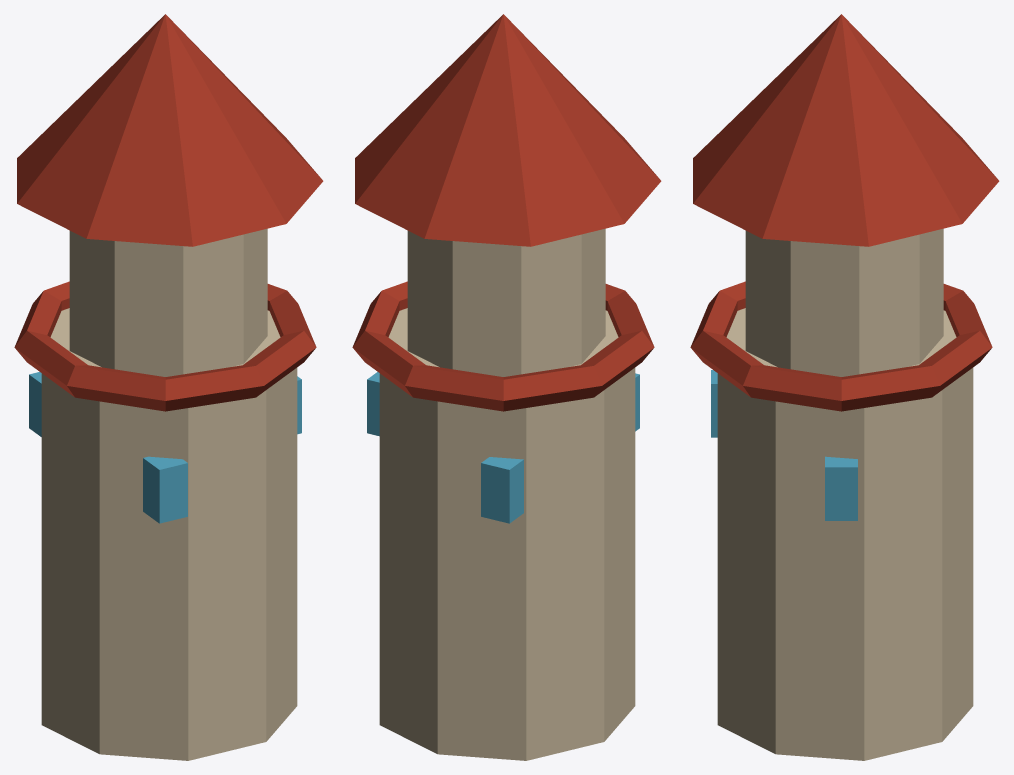
File: tower_terracotta.glb
3 renders of one model, left to right at view 1: azimuth 30°, elevation 25°; view 2: azimuth 150°, elevation 25°; view 3: azimuth 270°, elevation 25°, orthographic.
Visible parts, largest first — view 1: Cone; view 2: Cone; view 3: Cone.
Boxes of the visible parts, bbox=[...] form: Cone: bbox=[14, 14, 323, 760]; Cone: bbox=[352, 14, 661, 760]; Cone: bbox=[690, 14, 999, 760].
Size of the model in its own units: 1.32 by 3.25 by 1.31.
